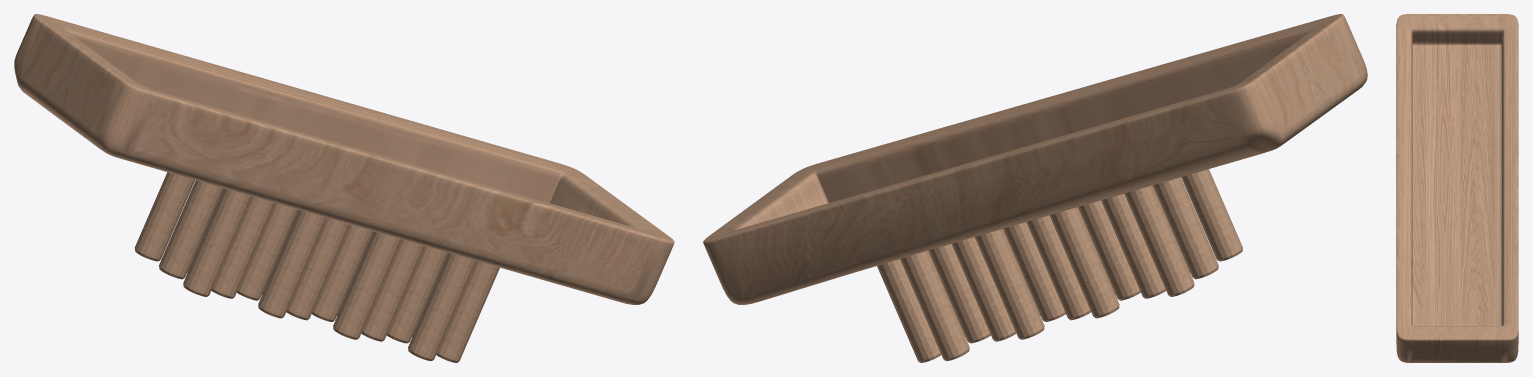
Rendered from Jueguito1.glb.
The picture shows the model from 3 angles, left to right: view 1: azimuth 30°, elevation 25°; view 2: azimuth 150°, elevation 25°; view 3: azimuth 270°, elevation 25°; orthographic projection. The views are drawn at different scales.
Parts seen in each view (by area): view 1: Base, Troncos; view 2: Base, Troncos; view 3: Base.
Part boxes in pixels (x1=…): Base: x1=14, y1=14, x2=674, y2=304; Troncos: x1=134, y1=172, x2=499, y2=362; Base: x1=703, y1=14, x2=1367, y2=304; Troncos: x1=877, y1=169, x2=1242, y2=362; Base: x1=1396, y1=14, x2=1518, y2=362.
Size of the model in its own units: 8.18 by 5.33 by 2.6.
Materials: 1 (1 with a texture image).
